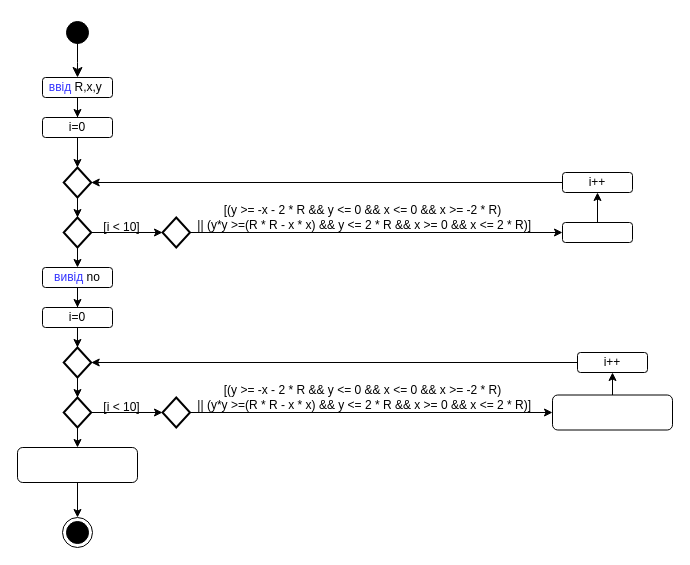
Some shapes in this 690 by 565 pixel diagram are drawn without their labels. The shapes that lost their labels are listed below. From the top down, each one's box as (x1, y1, x2, y2) in pixels, then its label:
(562, 222, 632, 242): вивід yes
(552, 394, 672, 430): вивід значень x та y в таблиці, yes
(16, 446, 138, 482): вивід значень x та y в таблиці, no
